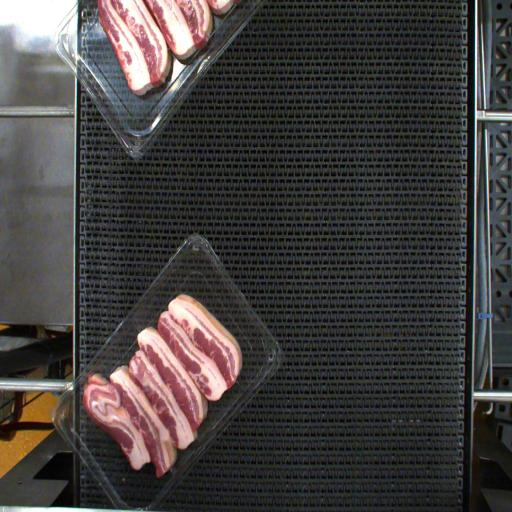packaging-error: (68, 368, 102, 390), (162, 456, 182, 492)
